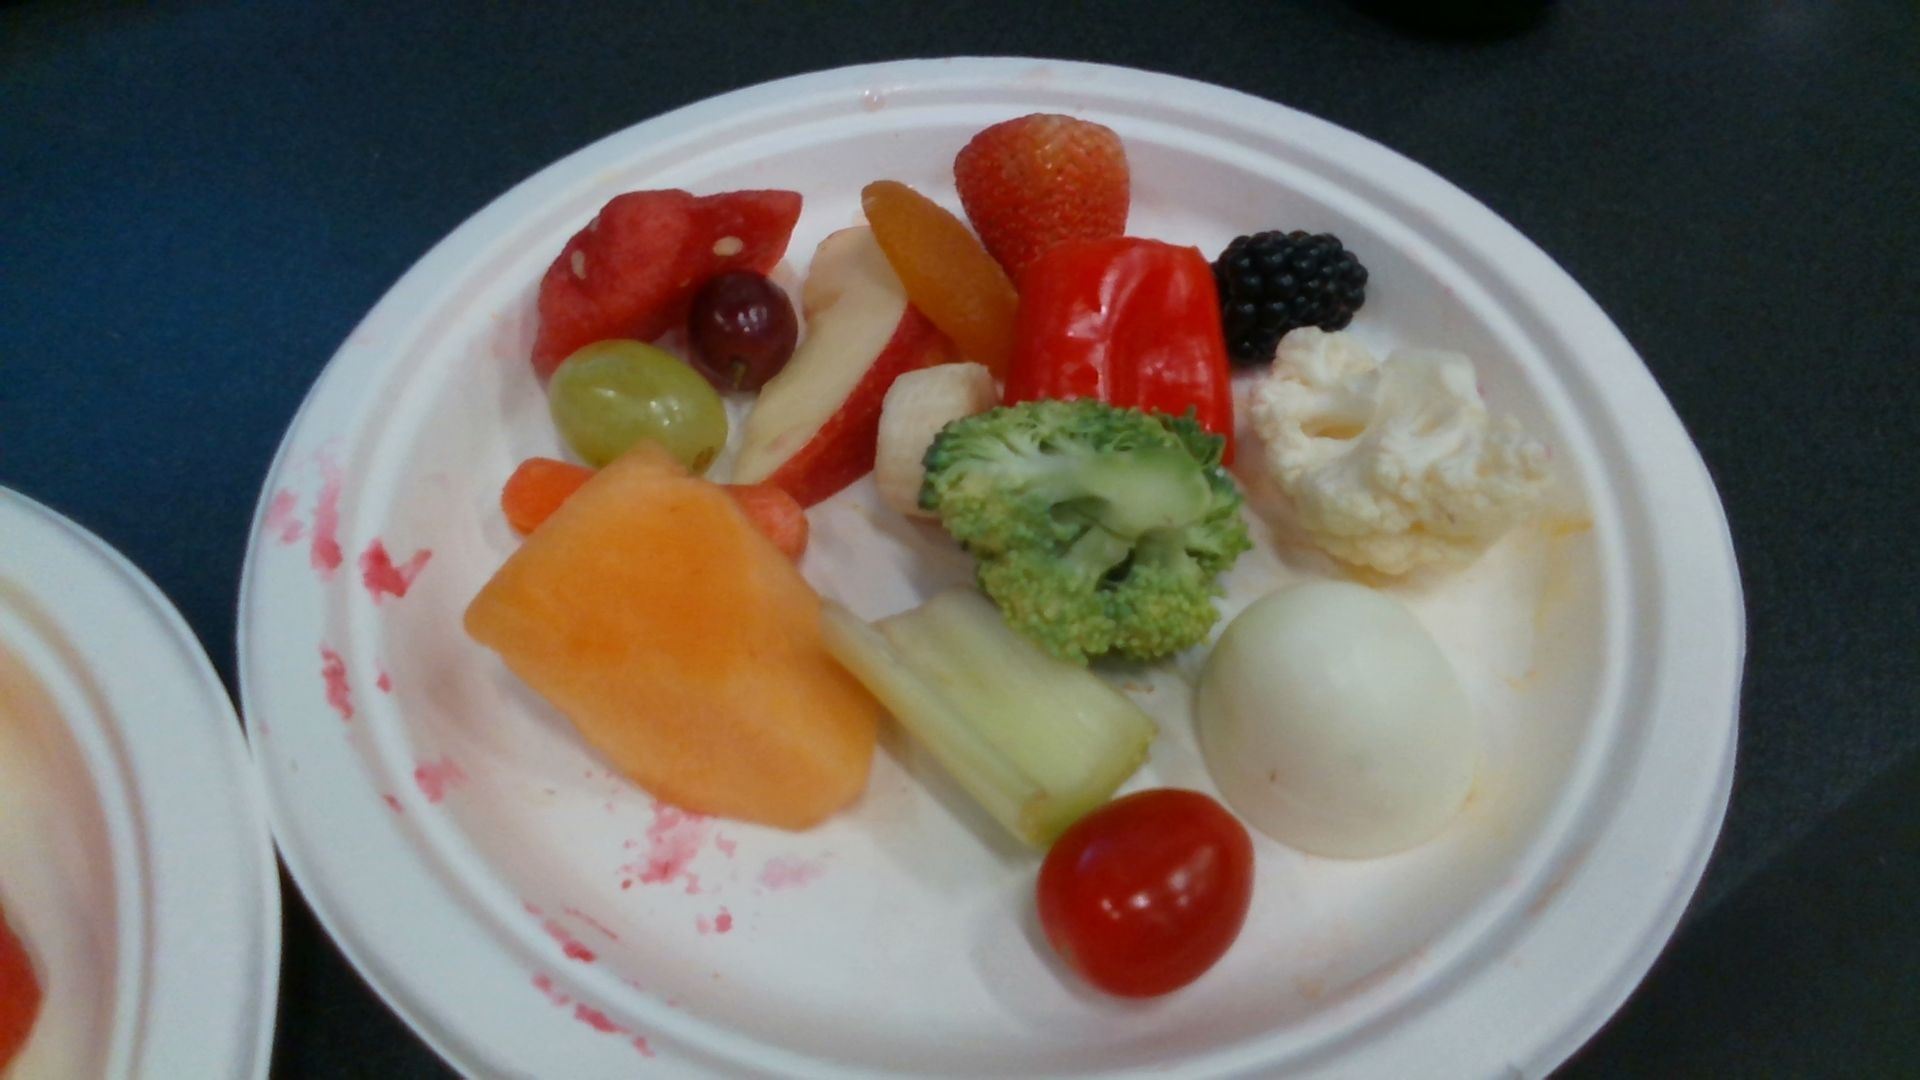apple: (742, 231, 939, 501)
apricot: (862, 179, 1025, 378)
banana: (877, 367, 1002, 518)
bell_pepper: (1017, 243, 1232, 465)
blackberry: (1211, 233, 1365, 361)
broccoli: (924, 400, 1247, 659)
cantalope: (462, 446, 874, 825)
carrot: (502, 460, 807, 564)
cauliflower: (1250, 326, 1553, 578)
celery: (818, 593, 1159, 837)
cherry_tomato: (1040, 791, 1247, 993)
egg: (1197, 583, 1480, 851)
grape_green: (549, 342, 727, 469)
grape_purple: (698, 276, 796, 390)
melon: (535, 190, 802, 371)
strawberry: (959, 116, 1130, 287)
